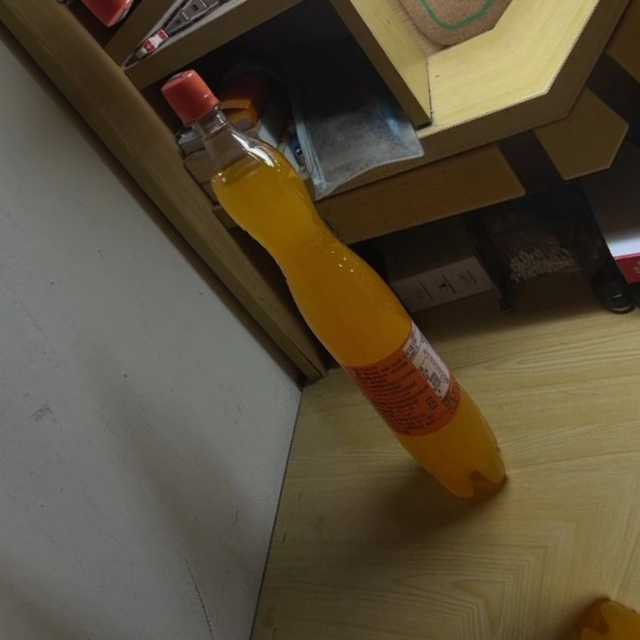Fanta: (129, 57, 535, 516)
